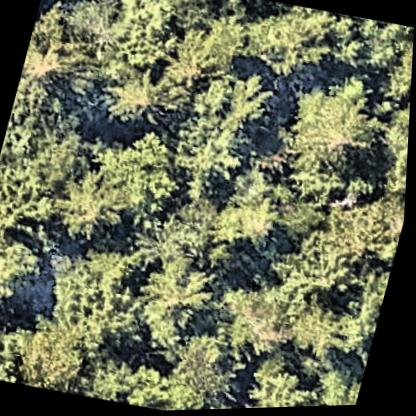tree-top: (27, 236, 148, 354), (0, 74, 92, 228), (173, 66, 277, 193), (229, 0, 347, 89), (283, 83, 389, 180), (82, 127, 188, 221), (17, 5, 114, 104), (92, 0, 198, 87), (158, 6, 255, 94), (275, 222, 370, 310), (46, 167, 137, 257), (200, 189, 288, 281), (2, 317, 97, 397), (131, 254, 221, 338), (166, 334, 259, 412), (218, 279, 306, 360), (135, 196, 217, 273), (337, 258, 396, 365), (321, 14, 406, 87), (332, 180, 408, 260), (75, 339, 145, 406), (102, 69, 175, 133), (369, 99, 412, 199), (276, 156, 351, 213), (291, 300, 351, 365), (0, 227, 48, 308), (240, 365, 322, 410), (54, 0, 124, 48), (124, 358, 180, 413), (0, 301, 36, 383), (154, 0, 226, 38), (273, 196, 330, 241), (387, 29, 414, 111), (316, 373, 366, 408)
